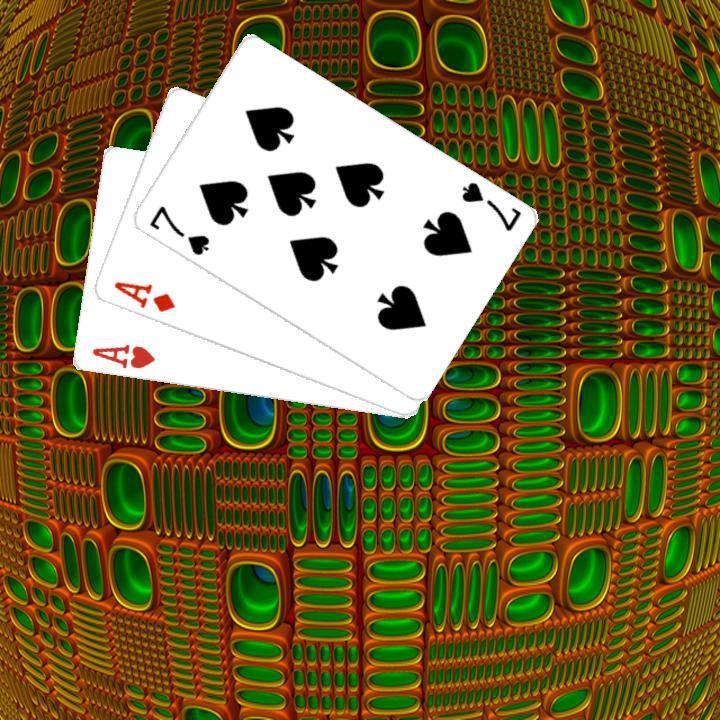7: (144, 201, 211, 258), (456, 177, 523, 234)
A: (109, 277, 177, 315), (87, 340, 157, 372)
